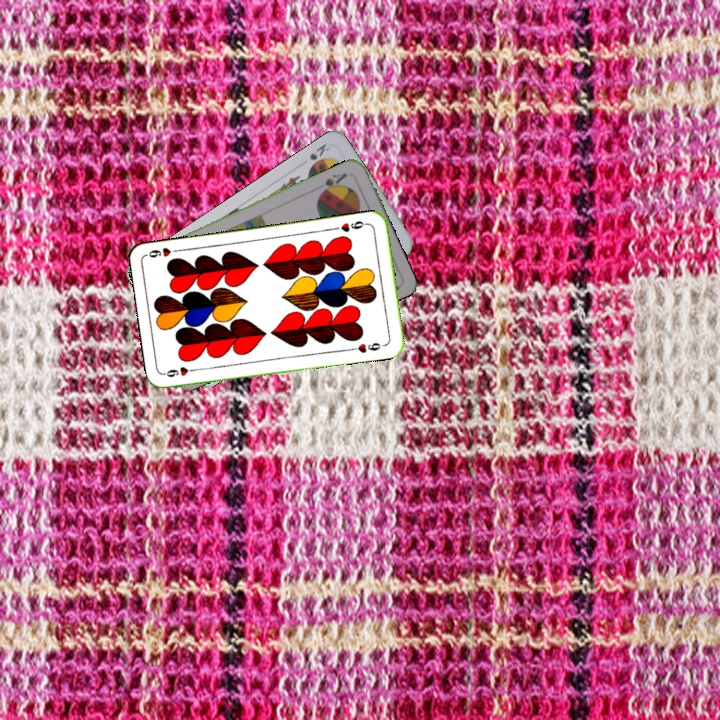H9: (331, 217, 371, 234), (161, 363, 201, 380)
SA: (316, 169, 350, 197)
SK: (305, 139, 332, 163)
